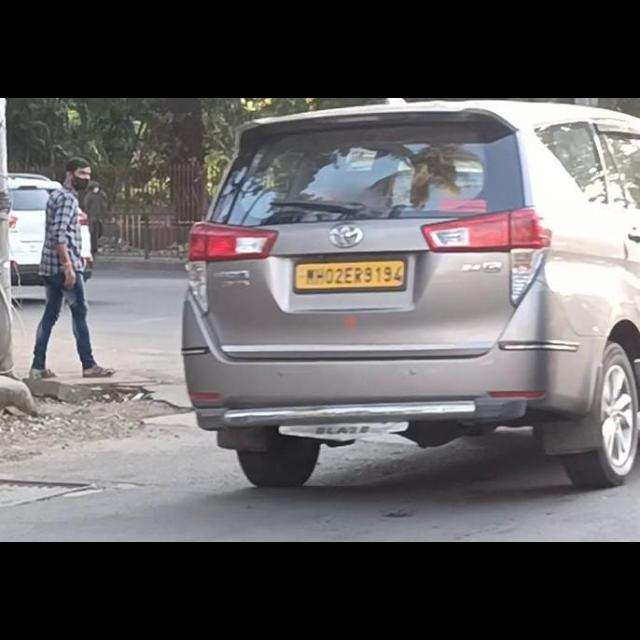number-plate: (291, 261, 409, 289)
vehicles: (174, 111, 640, 490)
